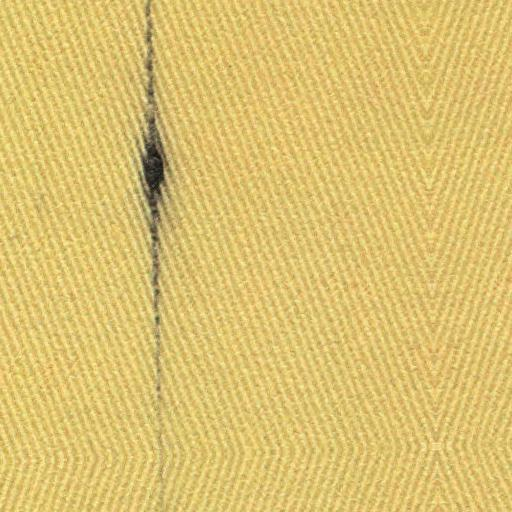stain: (131, 2, 176, 508)
